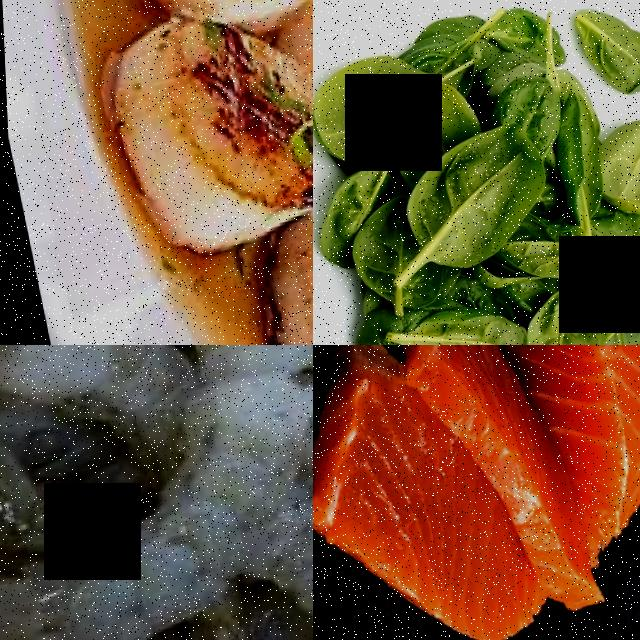salmon: (313, 345, 500, 640), (475, 345, 640, 499)
sea scallops: (99, 5, 313, 263)
shrimp: (135, 369, 313, 570), (0, 345, 191, 473), (247, 511, 313, 640)
spinach: (389, 124, 555, 279), (313, 53, 389, 177), (565, 0, 640, 114), (381, 77, 479, 161), (383, 298, 534, 345), (589, 117, 640, 231), (490, 79, 561, 134)
